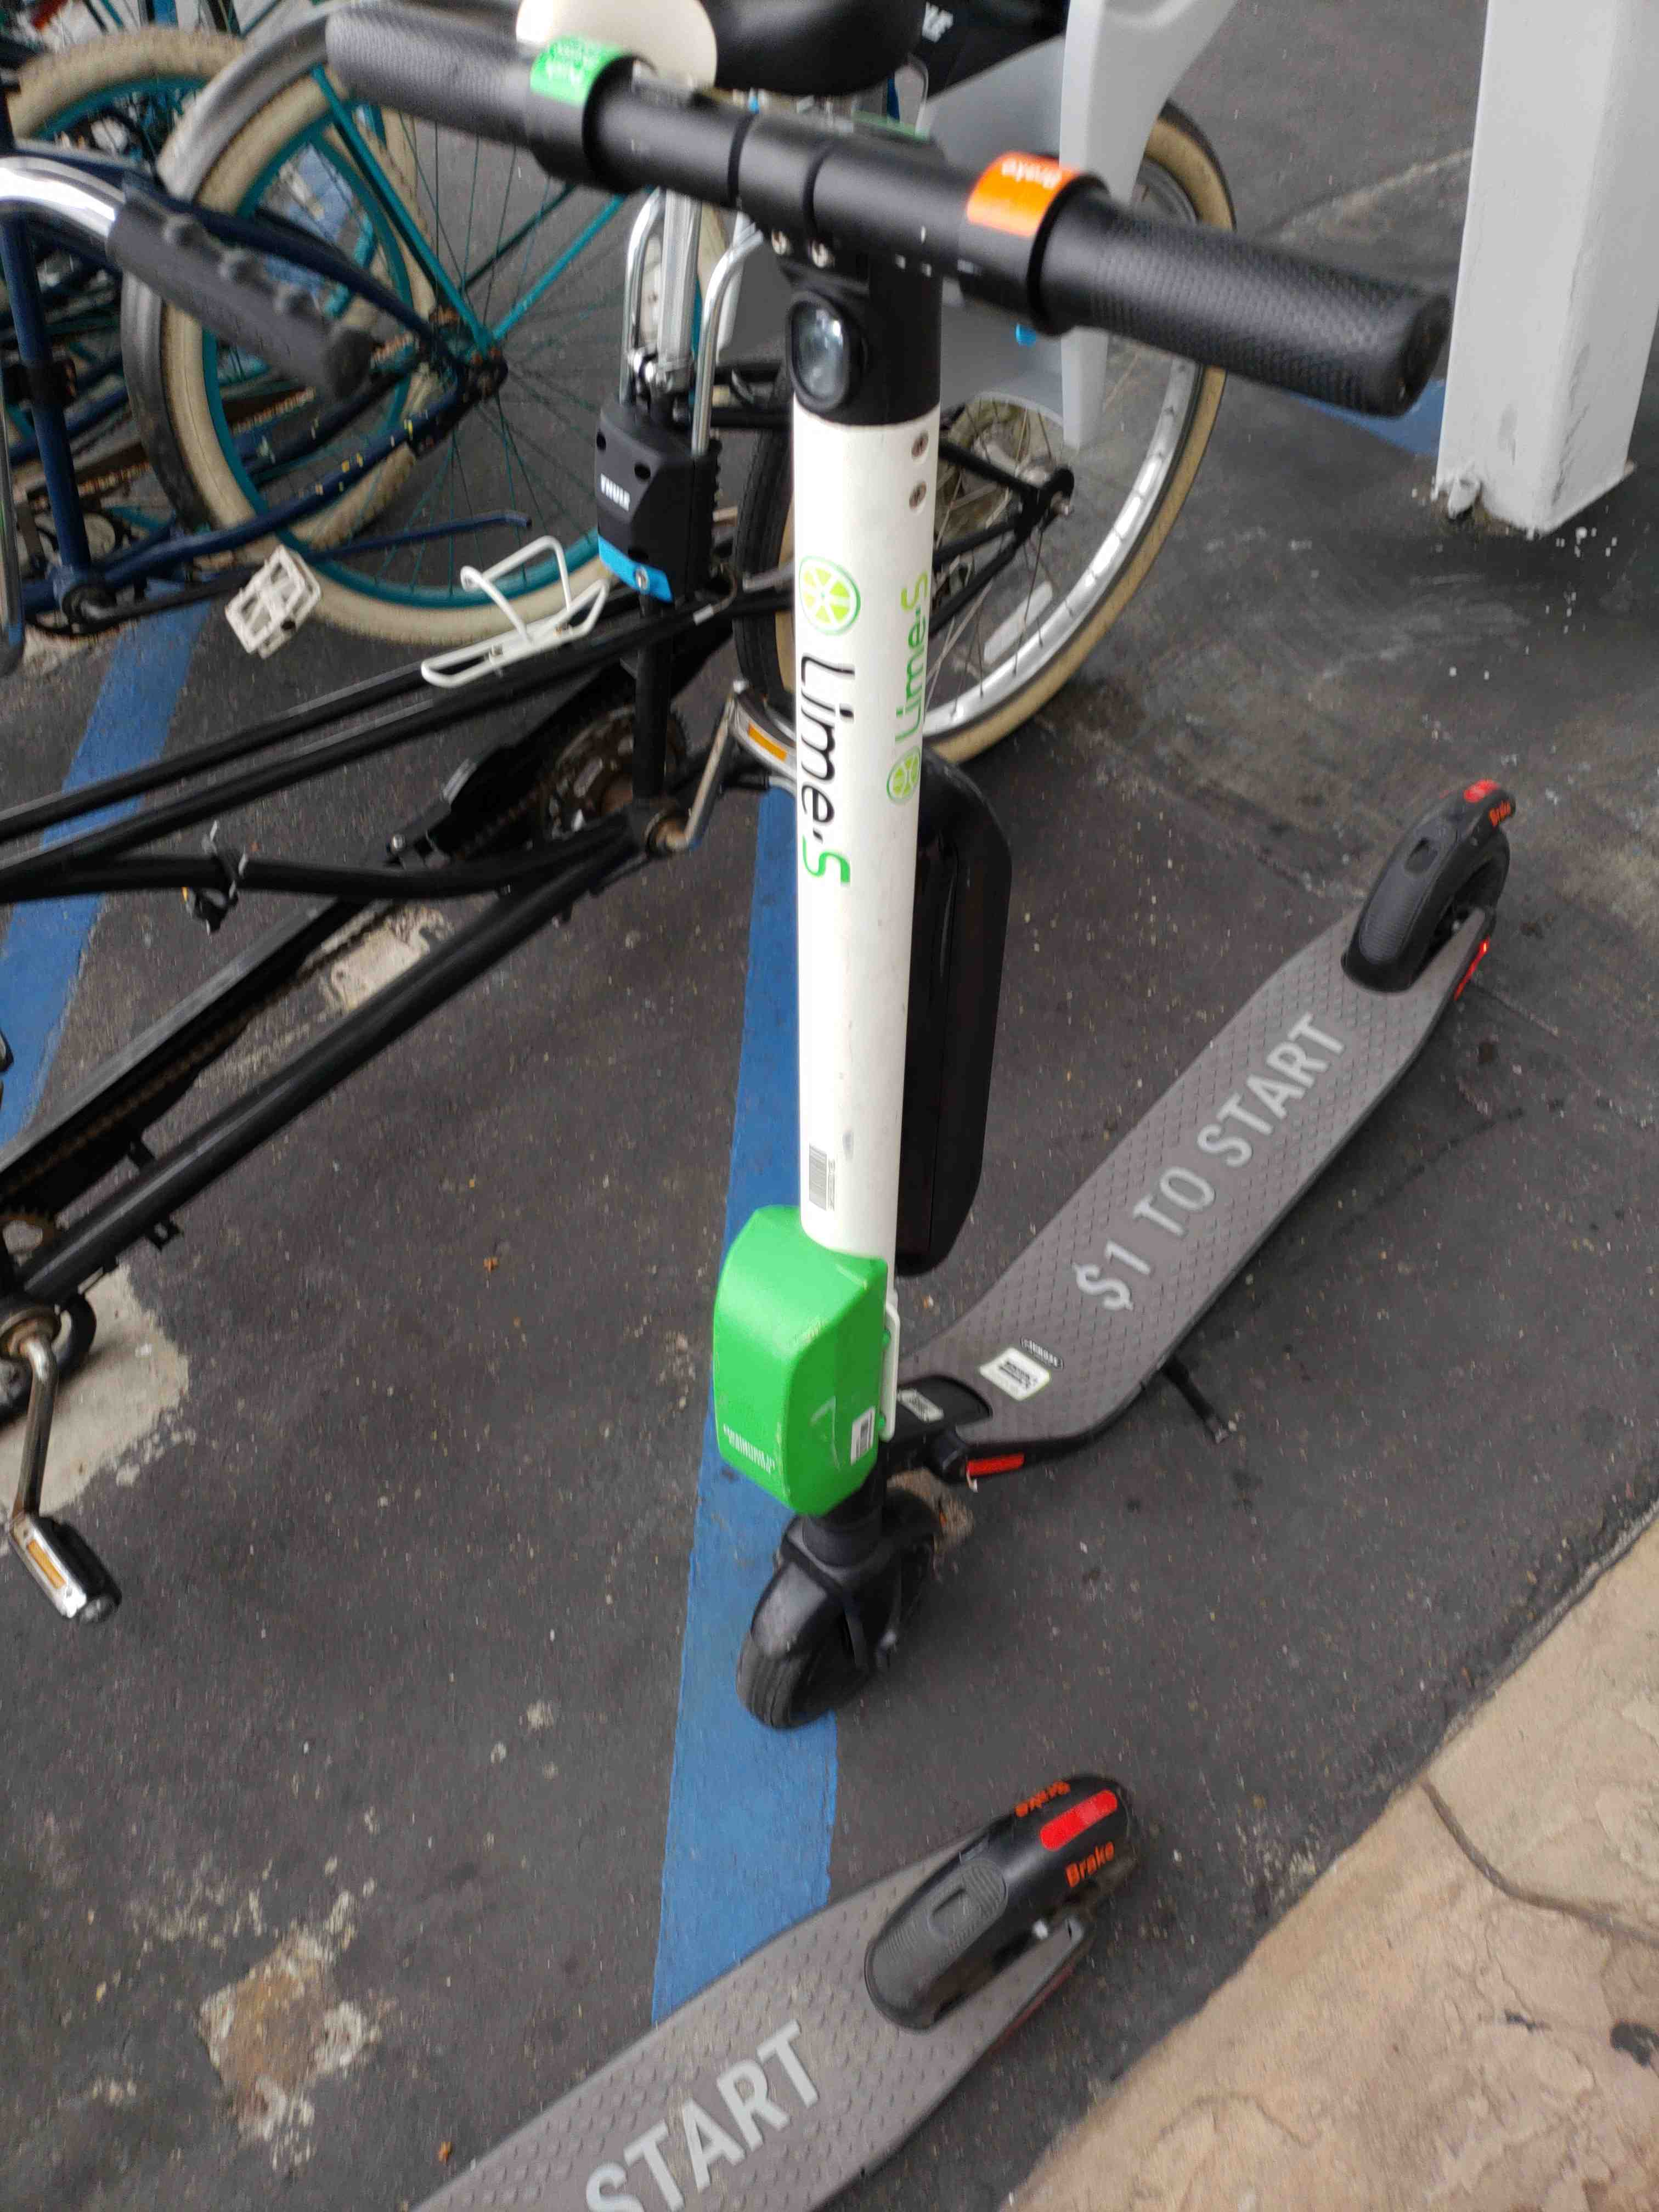scooter: (314, 7, 1523, 1737)
